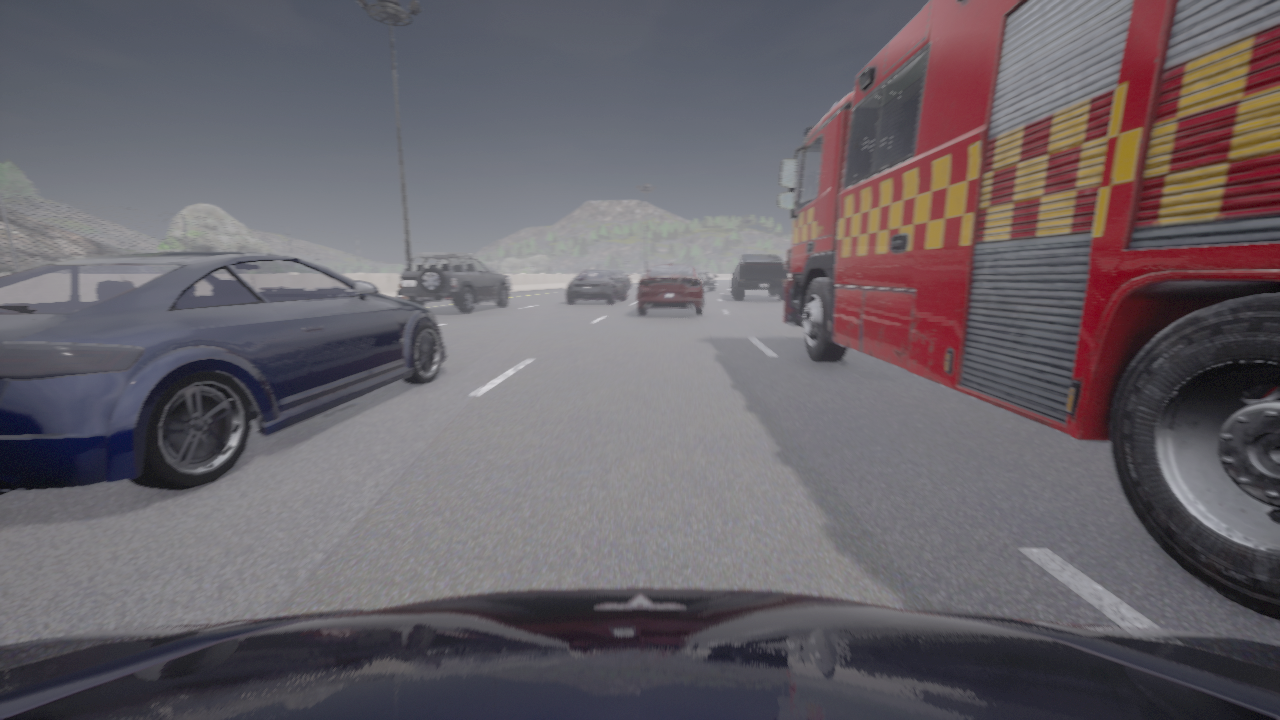cyclist: (777, 0, 1279, 620), (0, 588, 1279, 719), (0, 251, 446, 495), (396, 253, 510, 312), (637, 263, 705, 314), (731, 255, 788, 300), (565, 269, 626, 303), (695, 269, 715, 291), (609, 269, 630, 288)
